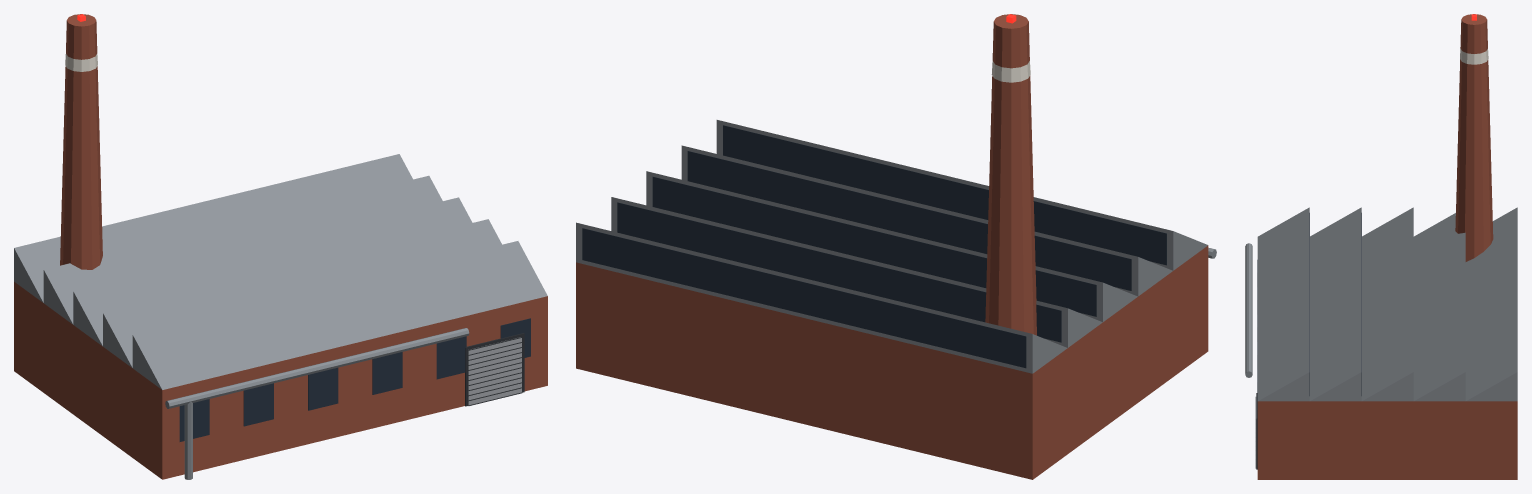
Rendered from bld_in_factory.glb.
The picture shows the model from 3 angles, left to right: view 1: azimuth 30°, elevation 25°; view 2: azimuth 150°, elevation 25°; view 3: azimuth 270°, elevation 25°; orthographic projection. The views are drawn at different scales.
Visible parts, largest first — view 1: bld_in_factory; view 2: bld_in_factory; view 3: bld_in_factory.
Part boxes in pixels (left/top/right/bottom): bld_in_factory: left=14, top=14, right=547, bottom=479; bld_in_factory: left=576, top=14, right=1216, bottom=479; bld_in_factory: left=1245, top=14, right=1517, bottom=479.
Size of what is drawn, in the model's own units: 36 by 32.4 by 25.17.
